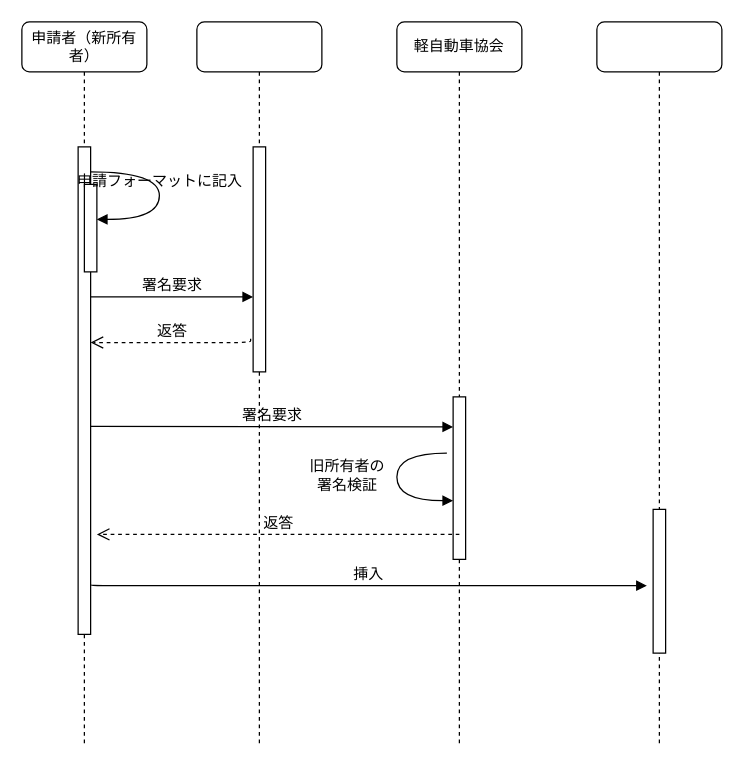
Some shapes in this 744 by 769 pixel diagram are drawn without their labels. The box of each missing label's shape, as (x1, y1, x2, y2) in pixels:
コアノード: (596, 21, 722, 747)
旧所有者: (196, 21, 322, 747)
